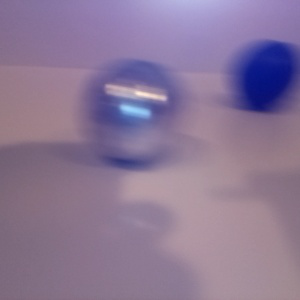alive_ball: (82, 58, 185, 164)
dead_ball: (232, 41, 299, 106)
